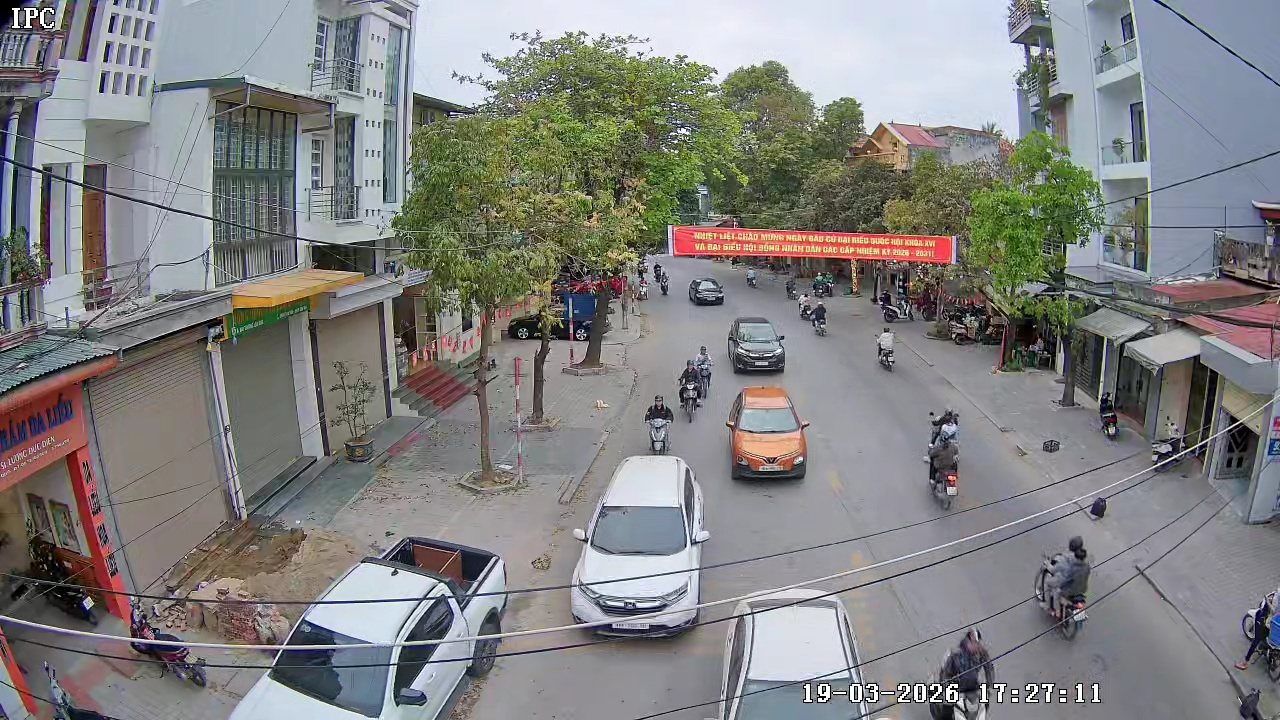car: (569, 454, 710, 639), (715, 591, 881, 719), (725, 386, 811, 482), (727, 314, 788, 374), (689, 276, 725, 305)
motorbike: (925, 625, 1002, 719), (1037, 534, 1094, 641), (1233, 587, 1279, 680), (924, 425, 962, 512), (643, 392, 674, 455), (926, 404, 961, 449), (677, 365, 700, 423), (697, 344, 715, 397), (877, 327, 897, 372), (813, 301, 828, 338)
